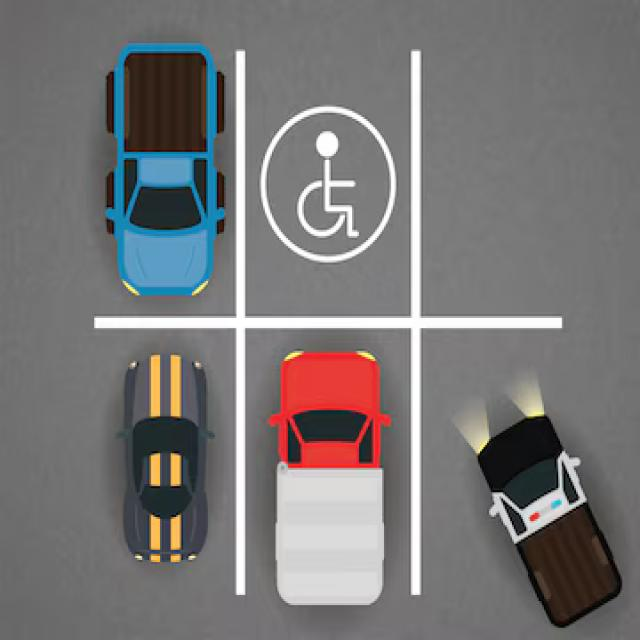discapacitados: (235, 41, 421, 328)
libre: (413, 29, 575, 330)
ocupado: (414, 317, 615, 628), (240, 320, 422, 623), (66, 318, 243, 613), (76, 27, 243, 330)
